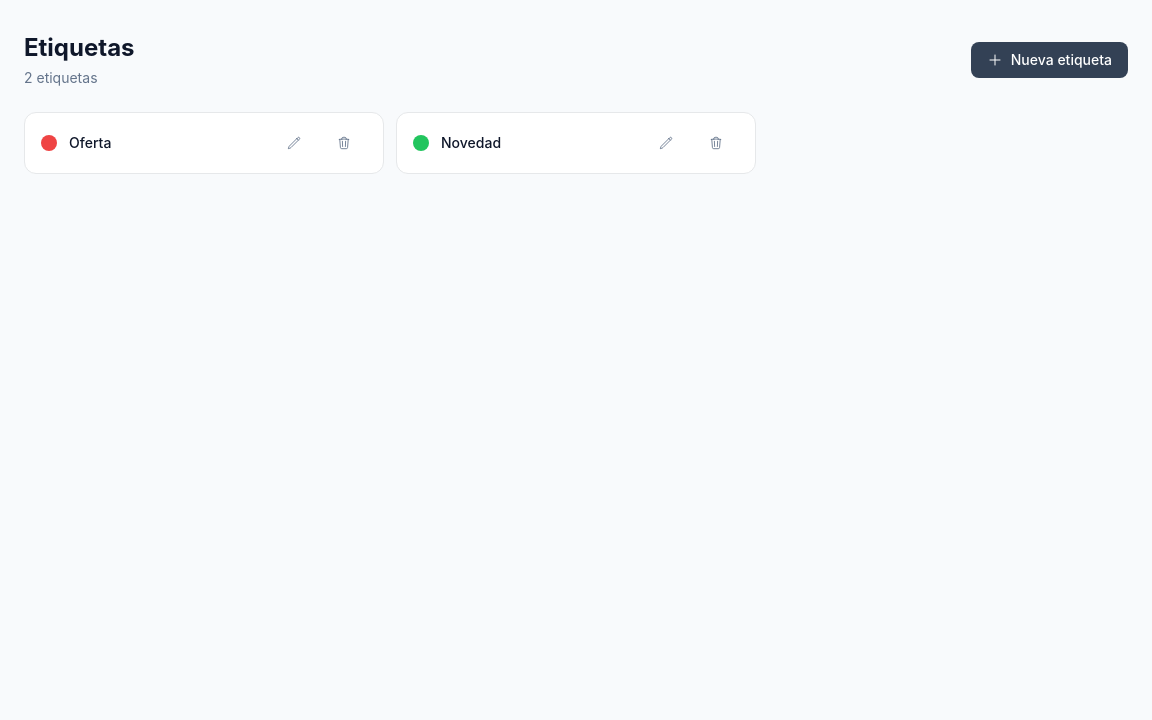
TagsPage — precarga del formulario (T1-17) › editar una etiqueta abre el modal con su nombre precargado
Click the button named "Editar Oferta": {"x": 294, "y": 143} left=271, top=125, right=317, bottom=161
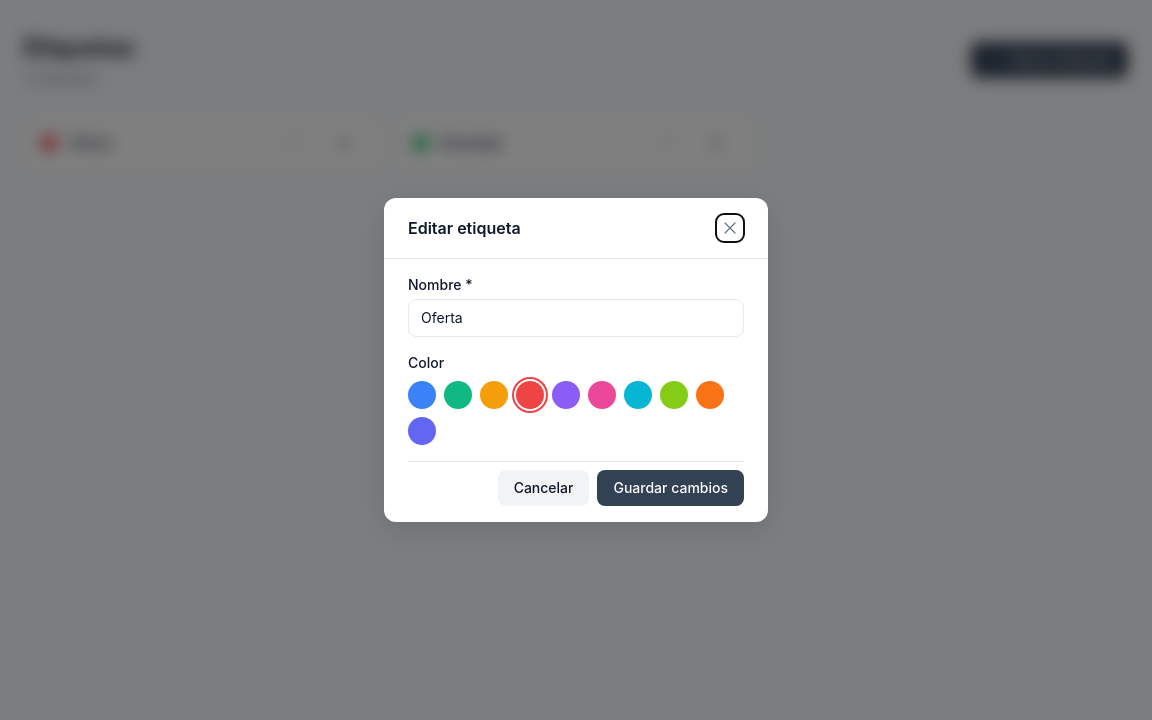
expect the heading "Editar etiqueta" is shown: met, box left=408, top=216, right=521, bottom=240
expect the field labelled "Nombre *" holds "Oferta": met, box left=408, top=299, right=744, bottom=337
